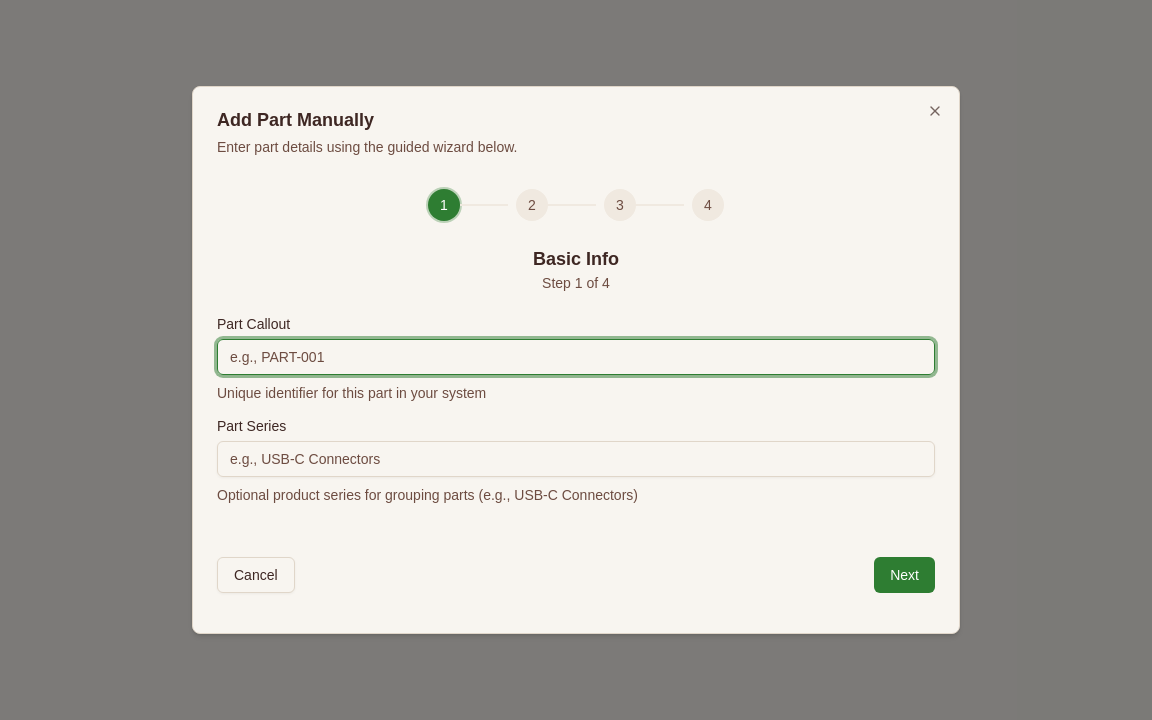
PartManualEntryModal › navigation › preserves data when navigating back
Type "MY-PART" into the field labelled "Part Callout".
click(576, 357); type("MY-PART")  # box [217,339,935,375]
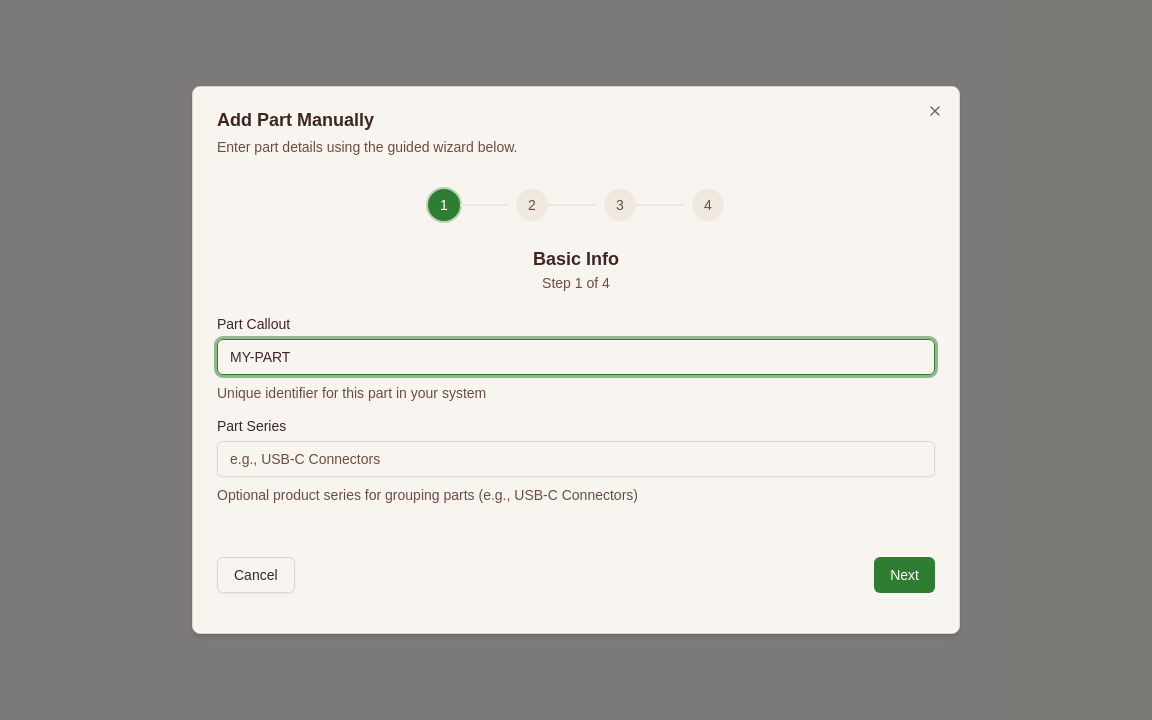
Click the button "Next".
click(905, 575)  # box [874,557,935,593]
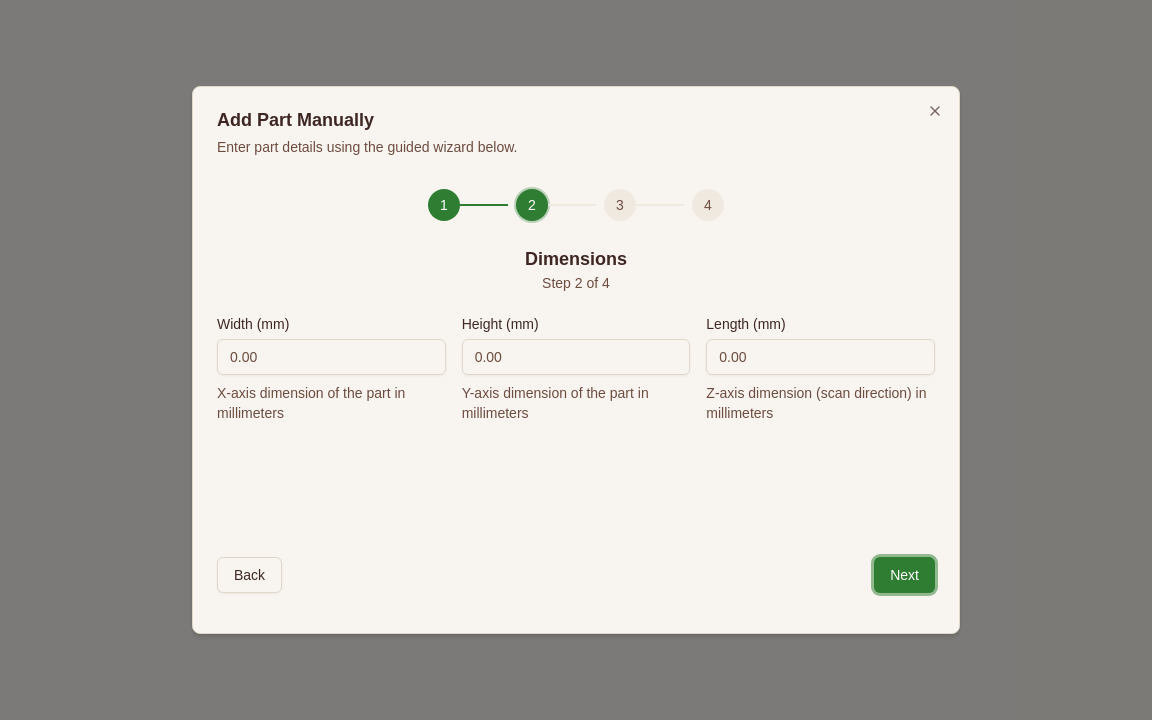
Expected: the text "Step 2 of 4" is shown, [542,275,610,291]
Click the button "Back".
click(250, 575)  # box [217,557,282,593]
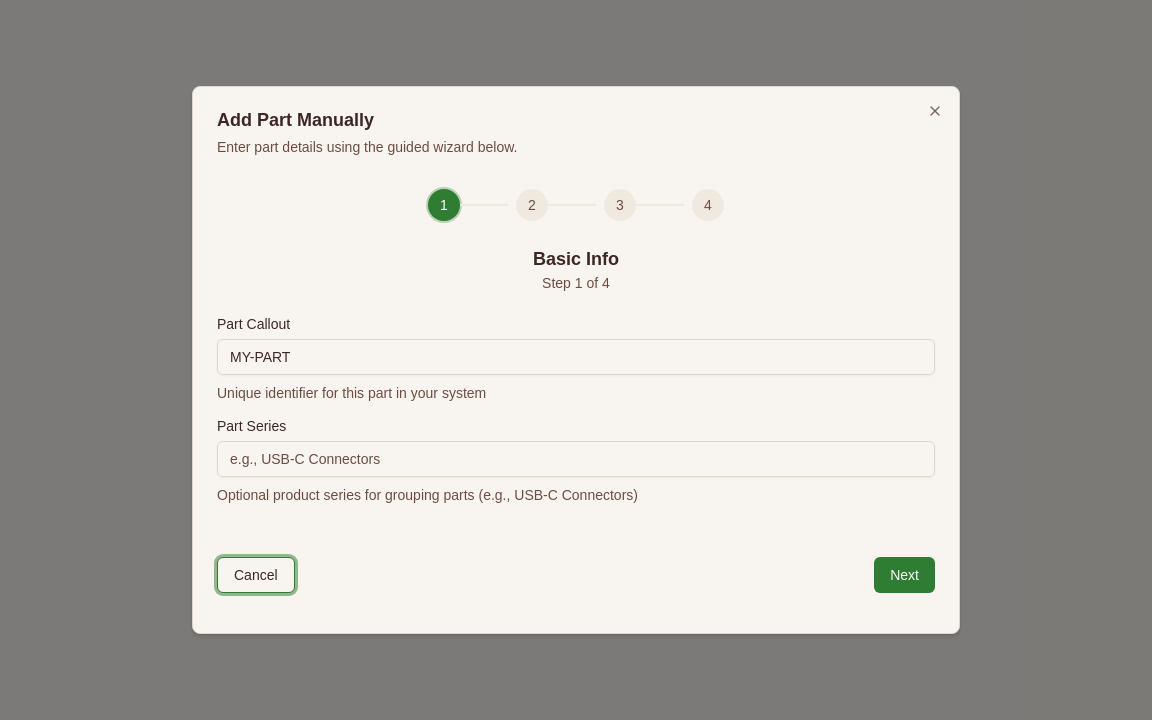
Expected: the text "Step 1 of 4" is shown, [542,275,610,291]
Expected: the field labelled "Part Callout" holds "MY-PART", [217,339,935,375]
